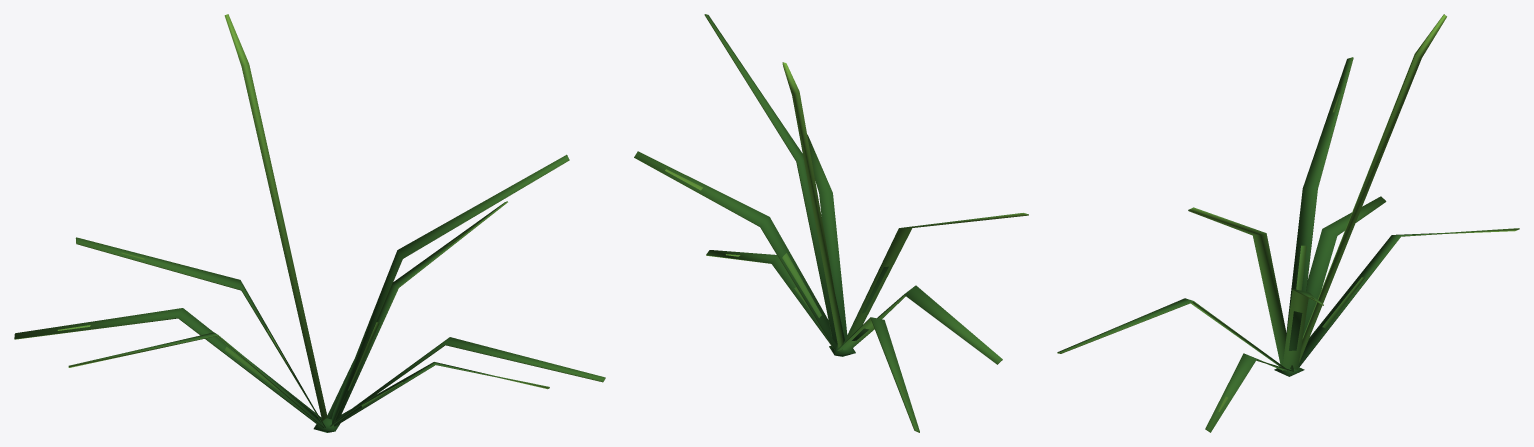
File: grassclump.lod2.glb
The picture shows the model from 3 angles, left to right: view 1: azimuth 30°, elevation 25°; view 2: azimuth 150°, elevation 25°; view 3: azimuth 270°, elevation 25°; orthographic projection. The views are drawn at different scales.
Parts seen in each view (by area): view 1: grassclump_s1_lod2; view 2: grassclump_s1_lod2; view 3: grassclump_s1_lod2.
Boxes of the visible parts, x1=… form: grassclump_s1_lod2: x1=14, y1=14, x2=605, y2=432; grassclump_s1_lod2: x1=634, y1=14, x2=1028, y2=432; grassclump_s1_lod2: x1=1057, y1=14, x2=1519, y2=432.
Size of the model in its own units: 1.31 by 1.09 by 1.3.
